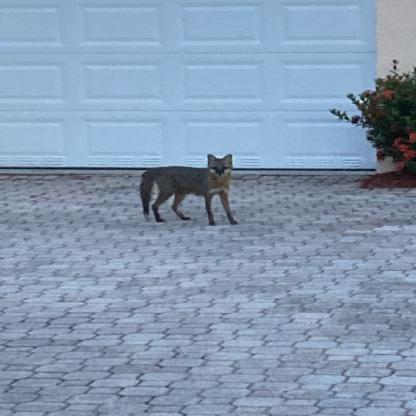zorro: (130, 151, 248, 234)
